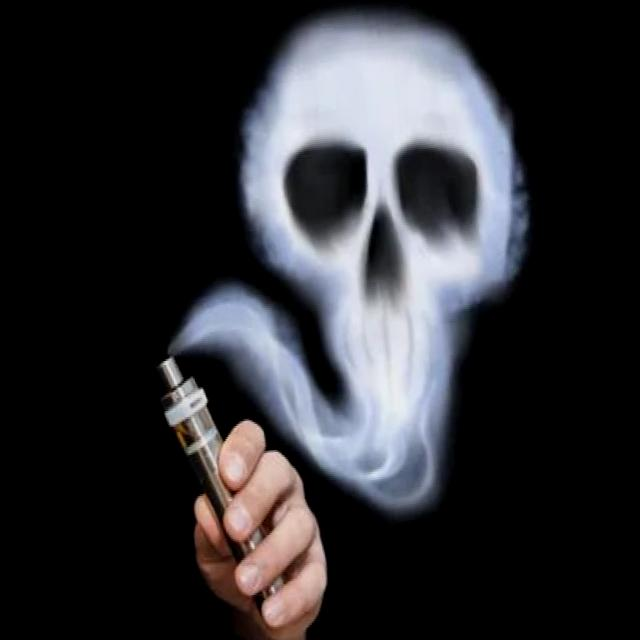cigarette: (142, 339, 299, 640)
